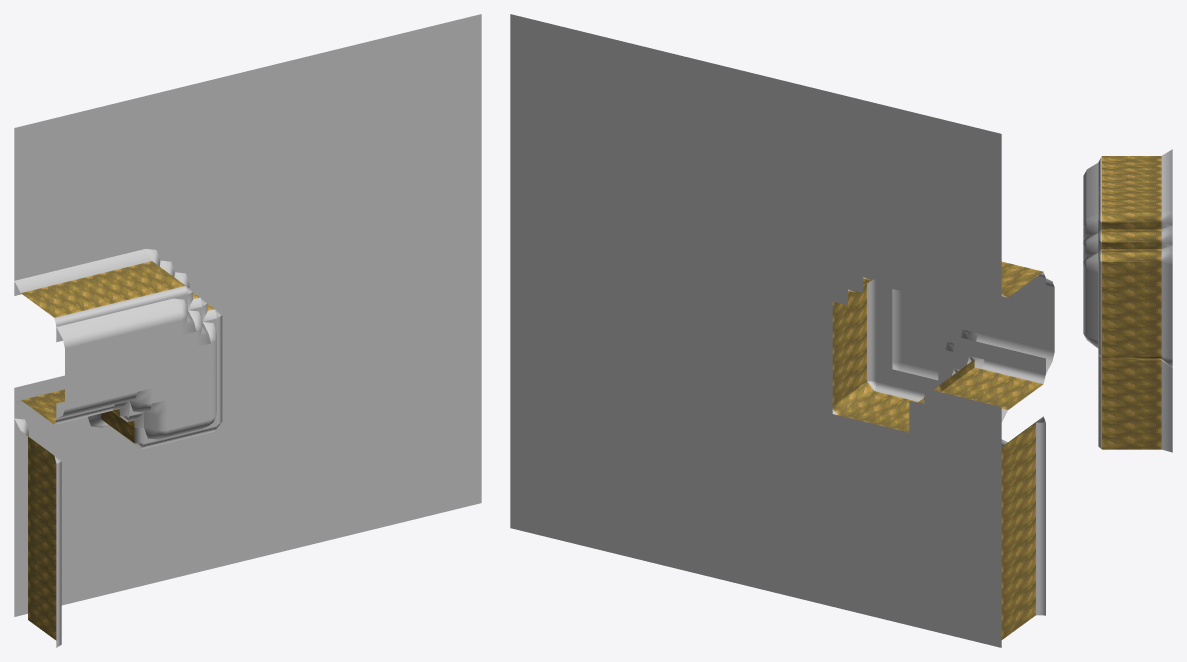
The model's file is Troome-Cave_02_03.obj.
3 renders of one model, left to right at view 1: azimuth 30°, elevation 25°; view 2: azimuth 150°, elevation 25°; view 3: azimuth 270°, elevation 25°, orthographic. The views are drawn at different scales.
Visible parts, largest first — view 1: map; view 2: map; view 3: map.
Boxes of the visible parts, x1,y1,x2,y2 form: map: [14, 14, 481, 647]; map: [510, 14, 1054, 647]; map: [1083, 149, 1172, 452].
Bounding box in the file's own units: 32 × 32 × 6.
